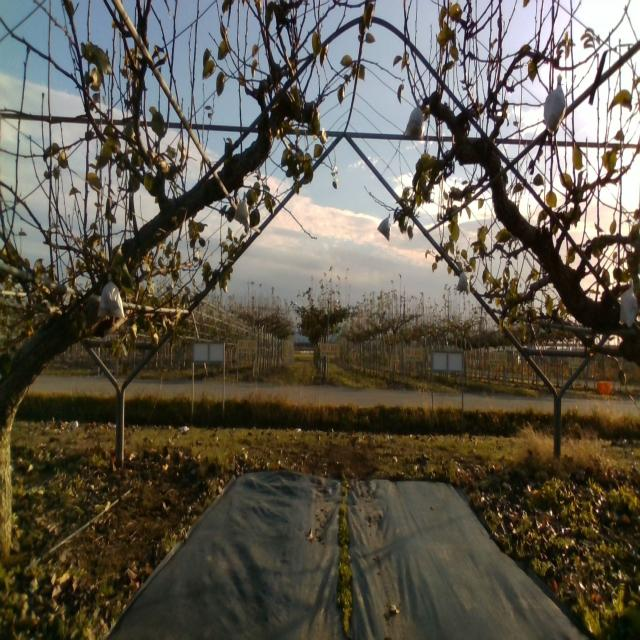pearbags: (544, 75, 566, 133), (98, 273, 124, 318), (619, 284, 638, 326), (403, 98, 422, 140), (235, 194, 250, 228), (456, 265, 470, 293), (377, 213, 390, 240)
